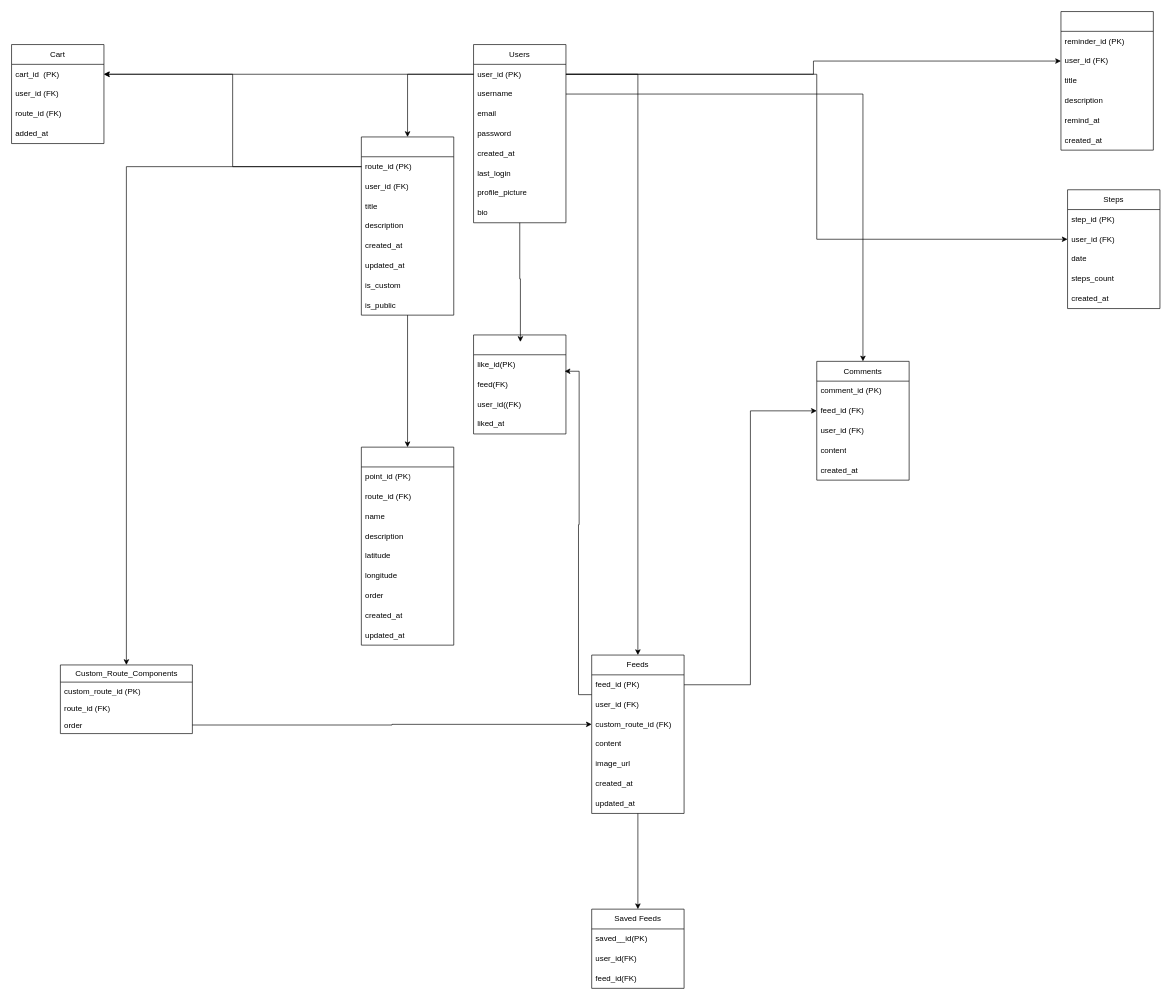
The diagram is 1172 pixels wide and 1000 high, and some of its shapes have lost their labels. The box of each missing label's shape, as (x1, y1, x2, y2) in pixels:
Likes: (473, 334, 566, 434)
Reminders: (1060, 11, 1153, 150)
Route_Points: (361, 446, 454, 645)
Routes: (361, 136, 454, 315)
